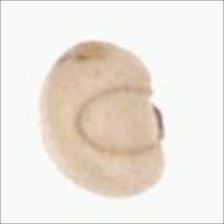L5: (71, 83, 169, 156)
L6: (37, 38, 168, 200)
